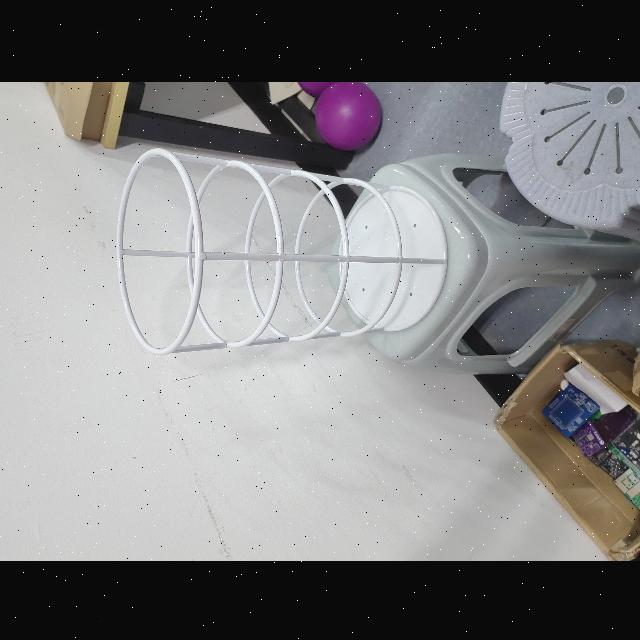S: (114, 145, 452, 357)
